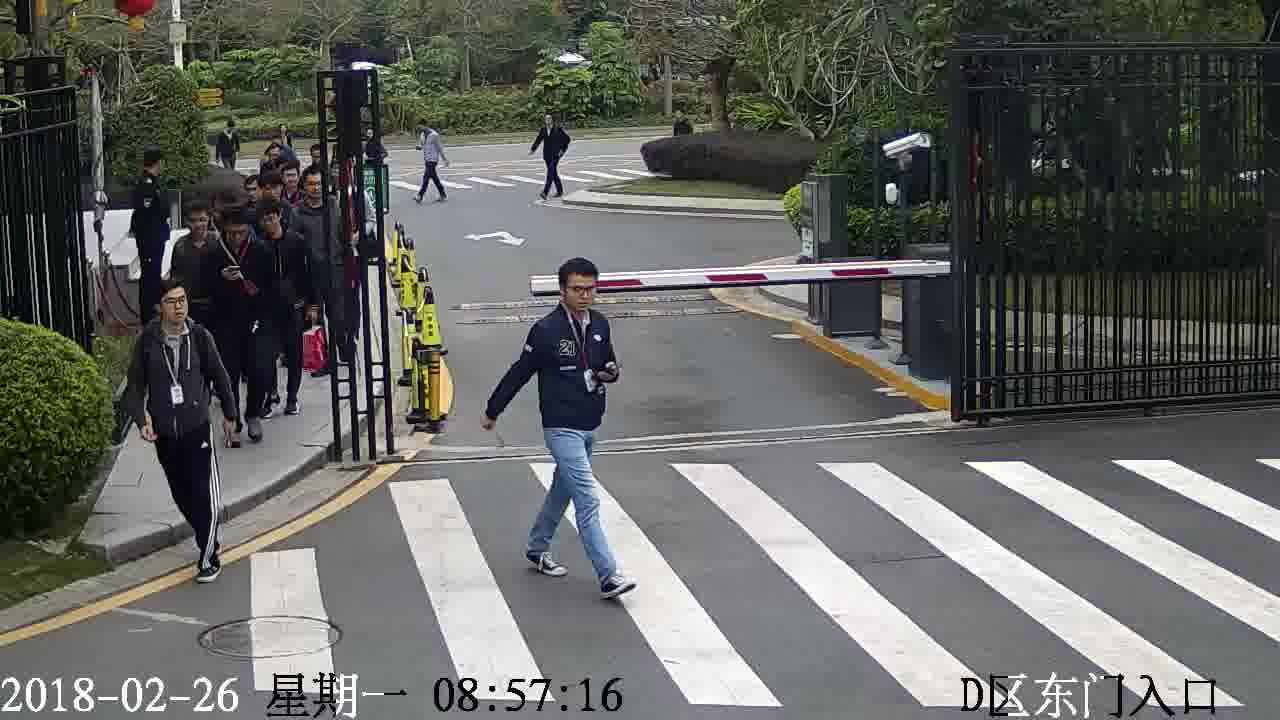face: (151, 290, 191, 328), (562, 275, 599, 312)
person: (529, 255, 609, 345), (134, 277, 213, 354), (209, 204, 271, 269), (255, 199, 307, 256), (172, 199, 223, 256), (293, 161, 341, 218), (249, 164, 297, 215), (133, 146, 169, 195), (259, 139, 293, 174), (535, 109, 567, 137), (413, 115, 443, 141), (217, 118, 241, 145), (673, 103, 698, 128)
